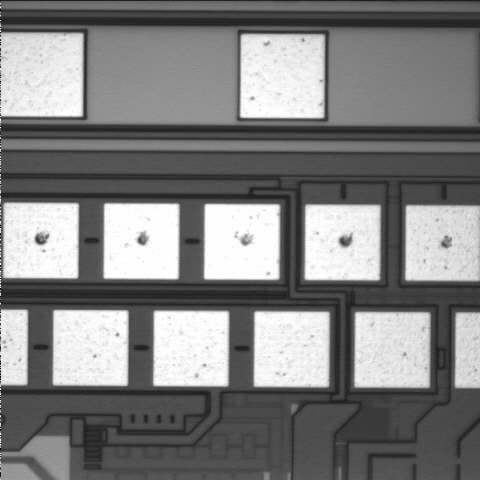pad: (240, 34, 324, 118), (3, 203, 79, 279), (103, 203, 179, 279), (204, 204, 280, 280), (254, 311, 330, 387), (354, 312, 430, 388), (53, 310, 128, 386), (153, 311, 229, 386), (305, 205, 380, 280)
